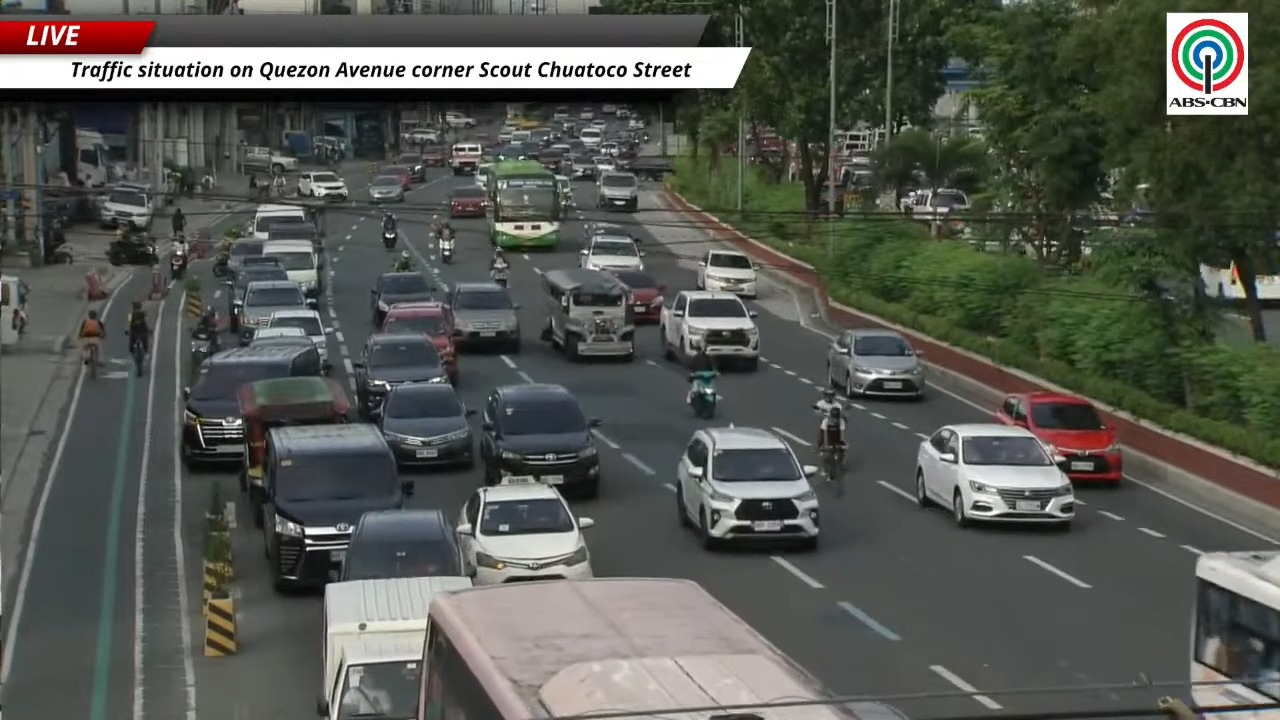bus: (416, 578, 904, 719), (1190, 551, 1279, 706), (487, 161, 562, 250)
car: (179, 341, 321, 466), (676, 427, 819, 548), (914, 423, 1074, 529), (456, 484, 593, 585), (479, 383, 600, 497), (995, 391, 1122, 483), (339, 509, 463, 581), (376, 383, 473, 466), (659, 290, 759, 370), (353, 333, 447, 418), (828, 329, 925, 398), (378, 301, 457, 382), (447, 282, 520, 353), (239, 280, 315, 344), (227, 262, 288, 332), (265, 308, 330, 373), (370, 271, 435, 327), (695, 249, 757, 297), (611, 269, 664, 323), (267, 222, 325, 268), (100, 185, 154, 230), (901, 188, 970, 221), (580, 235, 643, 270), (596, 171, 638, 211), (233, 241, 284, 273), (297, 171, 348, 200), (582, 221, 638, 247), (247, 327, 314, 348), (227, 238, 264, 275), (249, 326, 313, 346), (449, 186, 487, 217), (450, 142, 485, 175), (368, 175, 403, 203), (395, 152, 424, 182), (380, 165, 413, 190), (567, 153, 594, 180), (493, 143, 529, 162), (555, 175, 575, 207), (537, 149, 564, 172), (578, 127, 603, 151), (421, 144, 447, 166), (591, 155, 616, 177), (445, 111, 477, 128), (405, 128, 438, 144), (600, 140, 621, 156), (552, 106, 571, 121), (549, 142, 572, 154), (496, 127, 513, 143), (627, 118, 645, 130), (616, 105, 632, 118), (578, 109, 594, 121), (590, 118, 607, 129), (601, 104, 617, 114)
motorcycle: (190, 327, 220, 375), (107, 238, 158, 265), (689, 384, 719, 420), (170, 252, 188, 281), (212, 253, 230, 279), (490, 263, 508, 287), (439, 238, 453, 263), (382, 228, 397, 250)
truck: (317, 576, 471, 719), (242, 145, 296, 174)
